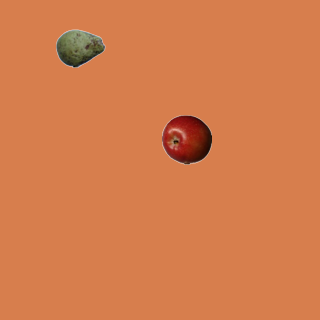Apple Braeburn: (161, 114, 211, 164)
Pear Stone: (55, 23, 105, 73)
